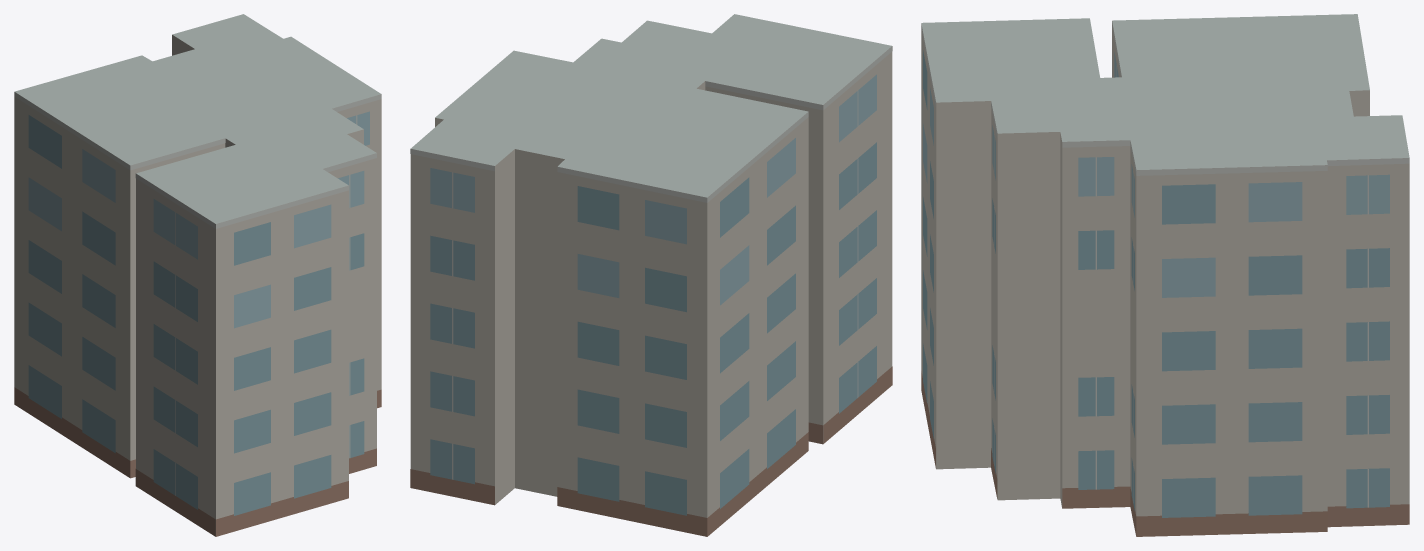
File: survey-upis-32872809.glb
3 renders of one model, left to right at view 1: azimuth 30°, elevation 25°; view 2: azimuth 150°, elevation 25°; view 3: azimuth 270°, elevation 25°, orthographic. The views are drawn at different scales.
Parts seen in each view (by area): view 1: survey-upis-32872809.tmp; view 2: survey-upis-32872809.tmp; view 3: survey-upis-32872809.tmp.
Part boxes in pixels (x1,y1,x2,y2): survey-upis-32872809.tmp: (14, 14, 381, 536); survey-upis-32872809.tmp: (410, 14, 892, 536); survey-upis-32872809.tmp: (921, 14, 1409, 536).
Bounding box in the file's own units: 14.16 × 15.5 × 18.72.
